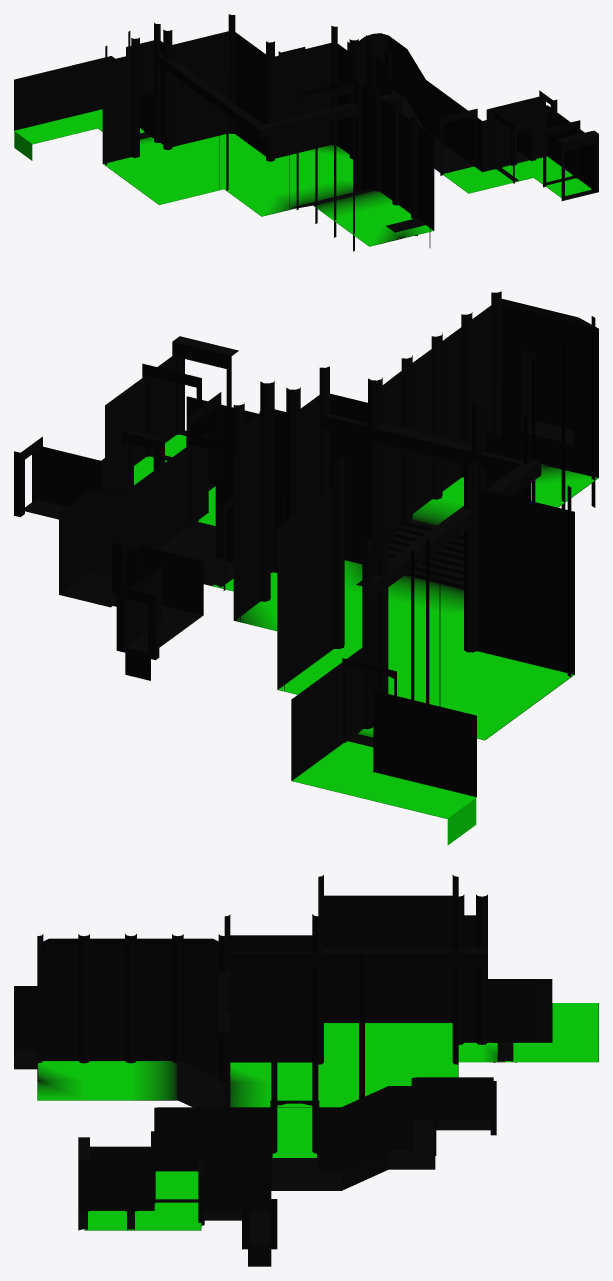
The model's file is chapel.glb.
3 renders of one model, top to bottom at view 1: azimuth 30°, elevation 25°; view 2: azimuth 150°, elevation 25°; view 3: azimuth 270°, elevation 25°, orthographic. The views are drawn at different scales.
Visible parts, largest first — view 1: Chapel, Chapel_Exit, Chapel_Access; view 2: Chapel, Chapel_Exit, Chapel_Access, Chapel_Stair_Mesh; view 3: Chapel, Chapel_Exit, Chapel_Access, Chapel_Stair_Mesh.
Boxes of the visible parts, x1,y1,x2,y2 form: Chapel: [102, 14, 434, 251]; Chapel_Exit: [278, 33, 598, 200]; Chapel_Access: [14, 56, 153, 160]; Chapel: [212, 291, 598, 740]; Chapel_Exit: [14, 336, 258, 680]; Chapel_Access: [291, 656, 476, 845]; Chapel_Stair_Mesh: [388, 520, 463, 588]; Chapel: [14, 875, 505, 1157]; Chapel_Exit: [78, 1077, 496, 1266]; Chapel_Access: [493, 979, 598, 1062]; Chapel_Stair_Mesh: [177, 1061, 224, 1107].
Bounding box in the file's own units: 24.63 × 8.25 × 25.
